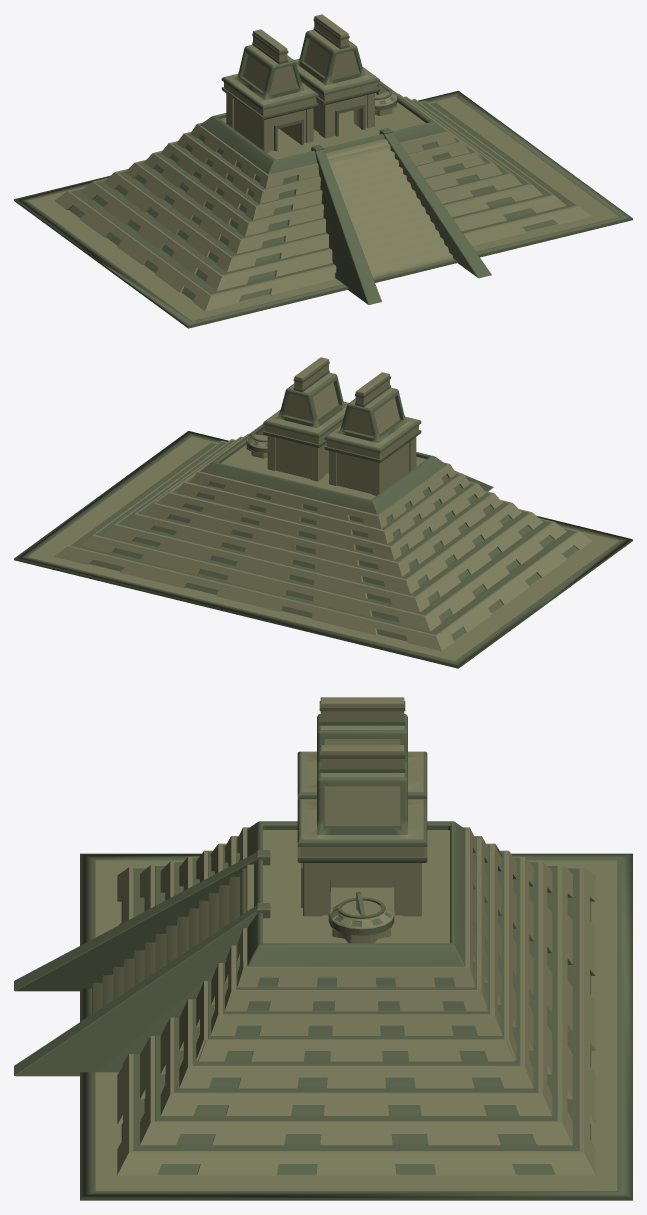
File: pyramid_maya02_observatory.fbx
3 views of the same model, one above another, from view 1: azimuth 30°, elevation 25°; view 2: azimuth 150°, elevation 25°; view 3: azimuth 270°, elevation 25° (orthographic). The views are drawn at different scales.
Visible parts, largest first — view 1: pyramid_maya02ground, pyramid_maya02walls, pyramid_maya02railing1, observatory012, pyramid_maya02railing, observatory011, observatory01; view 2: pyramid_maya02walls, pyramid_maya02ground, observatory012, observatory011, observatory01; view 3: pyramid_maya02ground, pyramid_maya02walls, pyramid_maya02railing, observatory011, observatory012, pyramid_maya02railing1, observatory01.
Boxes of the visible parts, box(x1,y1,x2,y2) form: pyramid_maya02ground: box(14, 82, 632, 328); pyramid_maya02walls: box(54, 81, 592, 311); pyramid_maya02railing1: box(325, 139, 453, 277); observatory012: box(221, 29, 318, 152); pyramid_maya02railing: box(311, 128, 491, 304); observatory011: box(294, 14, 379, 138); observatory01: box(375, 87, 397, 115); pyramid_maya02walls: box(54, 424, 592, 651); pyramid_maya02ground: box(14, 424, 632, 668); observatory012: box(324, 372, 421, 495); observatory011: box(263, 357, 348, 481); observatory01: box(246, 429, 267, 458); pyramid_maya02ground: box(80, 821, 632, 1200); pyramid_maya02walls: box(117, 827, 595, 1175); pyramid_maya02railing: box(14, 850, 270, 1076); observatory011: box(297, 745, 427, 916); observatory012: box(297, 697, 427, 799); pyramid_maya02railing1: box(92, 864, 253, 1013); observatory01: box(328, 897, 394, 943).
Bounding box in the file's own units: 49.94 × 19.6 × 37.98.
